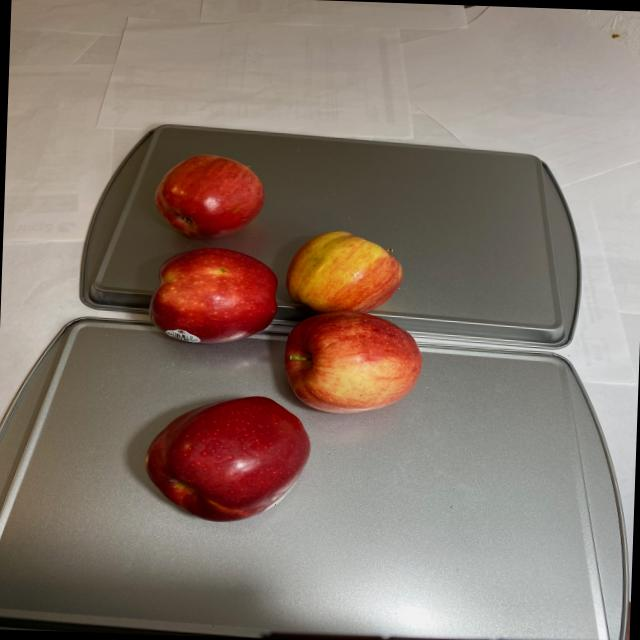apple: (136, 149, 433, 532)
